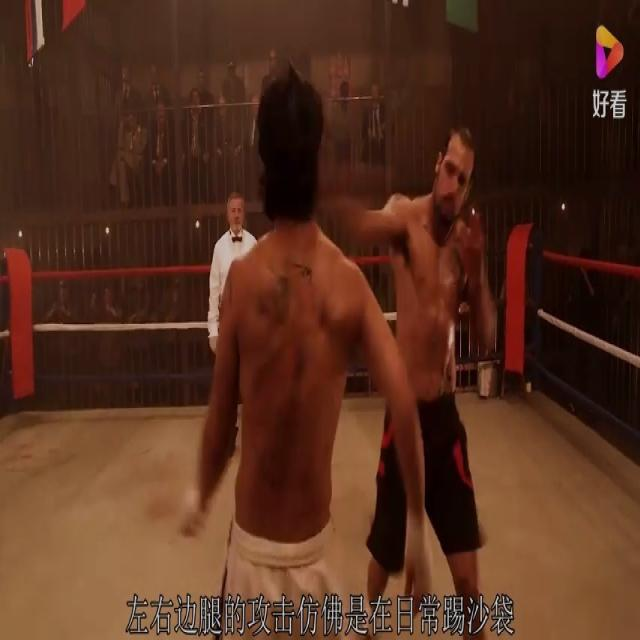fight: (184, 61, 486, 639)
